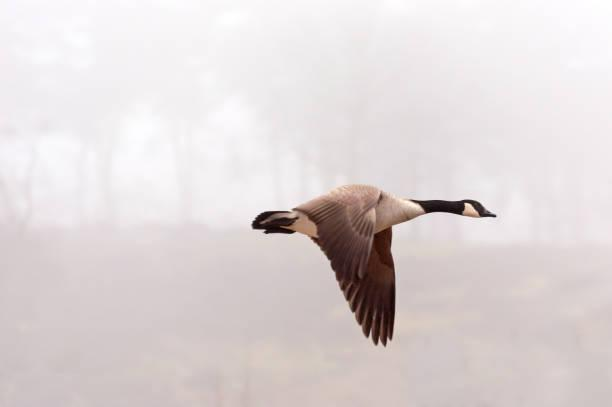Canadian-Goose: (254, 184, 498, 343)
